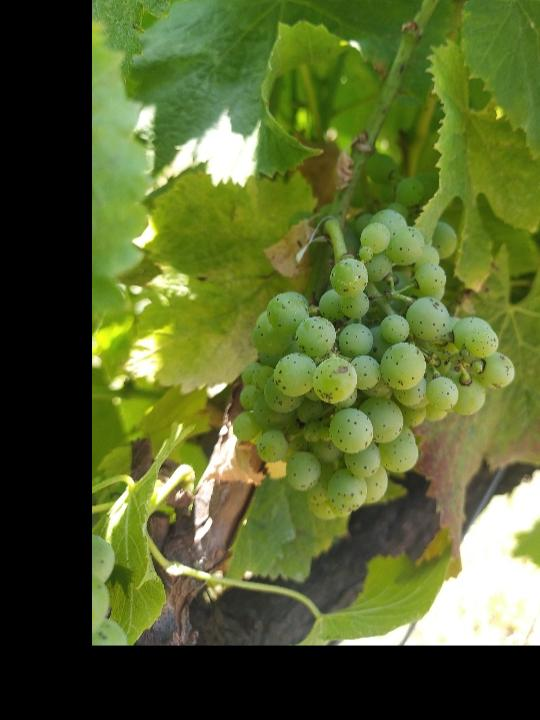grape: (232, 208, 517, 524)
